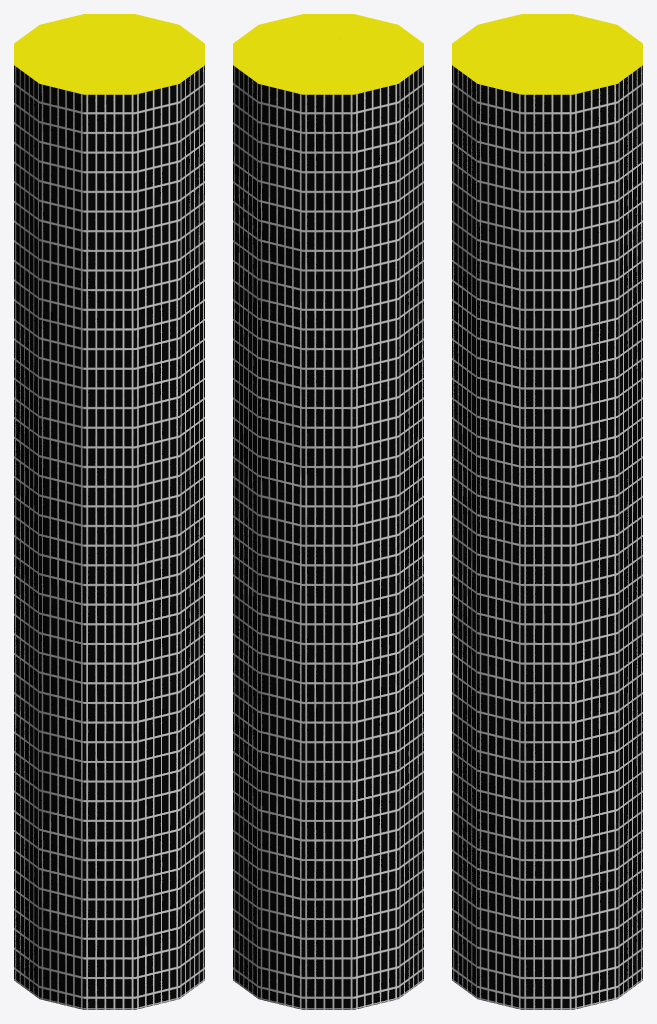
The model's file is testVersion4.fbx.
The picture shows the model from 3 angles, left to right: view 1: azimuth 30°, elevation 25°; view 2: azimuth 150°, elevation 25°; view 3: azimuth 270°, elevation 25°; orthographic projection.
Parts seen in each view (by area): view 1: Building_BoxV004, Building_BoxV004_Part_15, Building_BoxV004_Part_13, Building_BoxV004_Part_2; view 2: Building_BoxV004, Building_BoxV004_Part_15, Building_BoxV004_Part_13, Building_BoxV004_Part_2; view 3: Building_BoxV004, Building_BoxV004_Part_2, Building_BoxV004_Part_13, Building_BoxV004_Part_15.
Part boxes in pixels (<box>): Building_BoxV004: <box>14,14,204,1009</box>; Building_BoxV004_Part_15: <box>14,72,199,316</box>; Building_BoxV004_Part_13: <box>14,14,204,129</box>; Building_BoxV004_Part_2: <box>78,142,204,324</box>; Building_BoxV004: <box>233,22,423,1009</box>; Building_BoxV004_Part_15: <box>259,65,423,298</box>; Building_BoxV004_Part_13: <box>233,14,408,129</box>; Building_BoxV004_Part_2: <box>233,154,321,288</box>; Building_BoxV004: <box>452,14,642,1009</box>; Building_BoxV004_Part_2: <box>452,156,642,322</box>; Building_BoxV004_Part_13: <box>452,16,642,172</box>; Building_BoxV004_Part_15: <box>452,99,642,190</box>.
Size of the model in its own units: 22.68 by 120 by 22.68.
